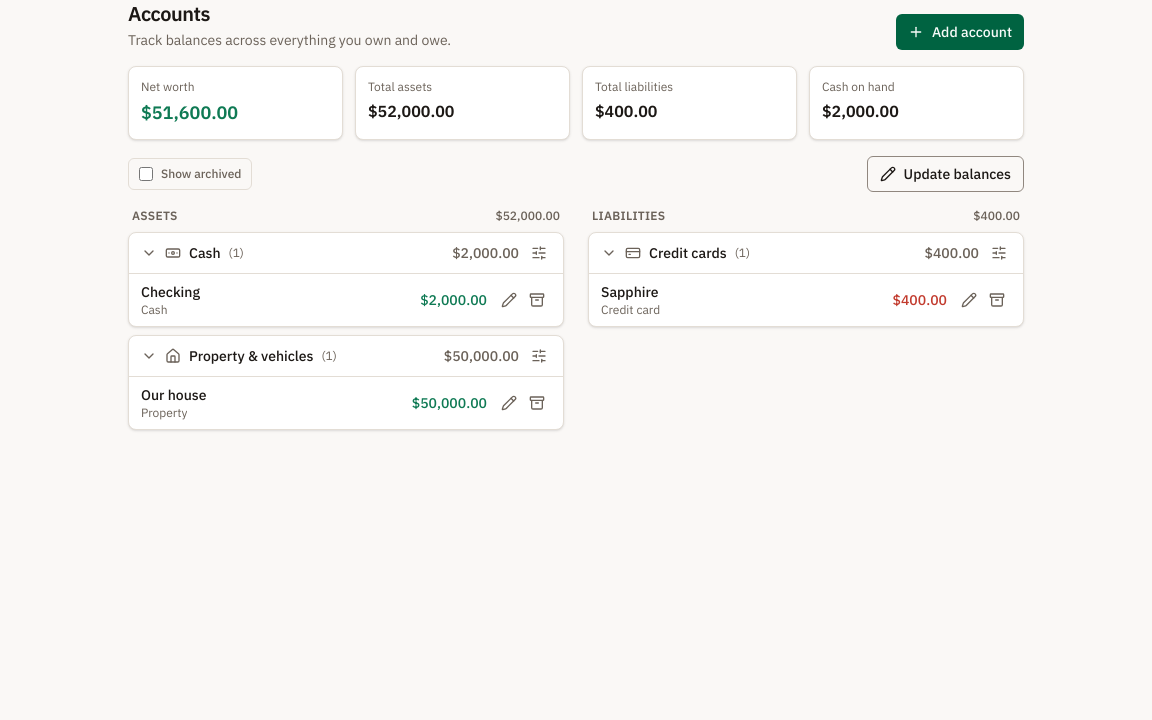
Test: a row's edit control opens the editor
Click the button named "Edit Checking" at (509, 300), box 495,286 -> 523,314
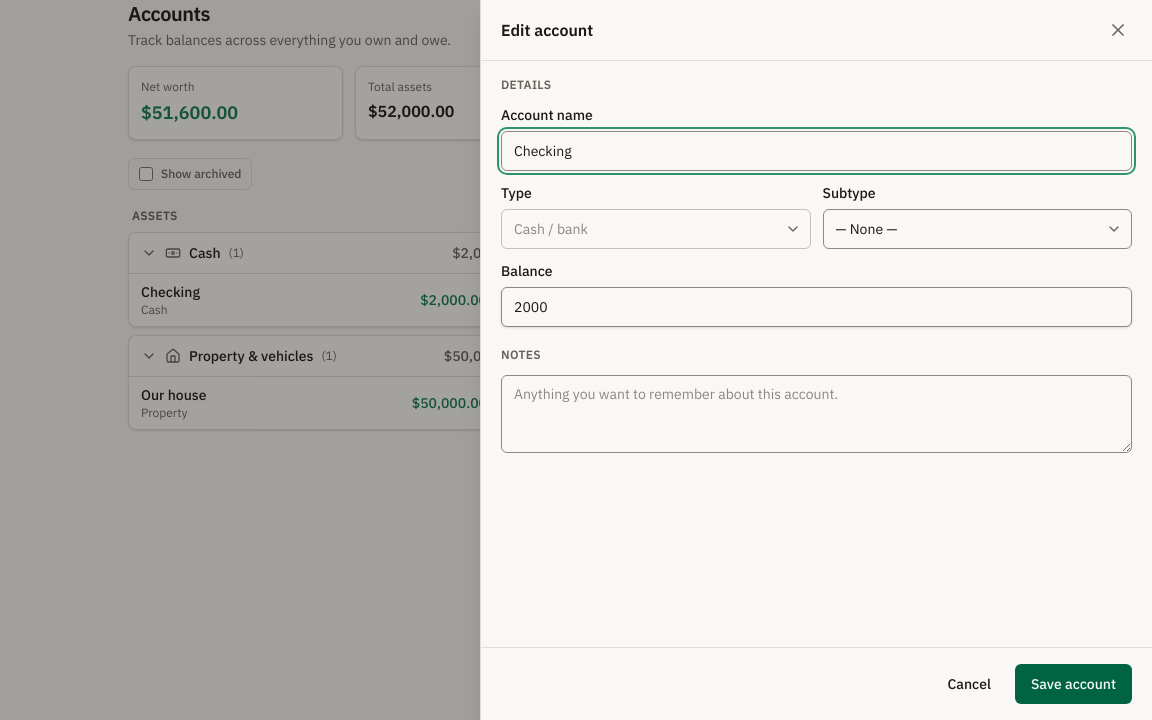
Now the dialog named "edit Checking" is shown
